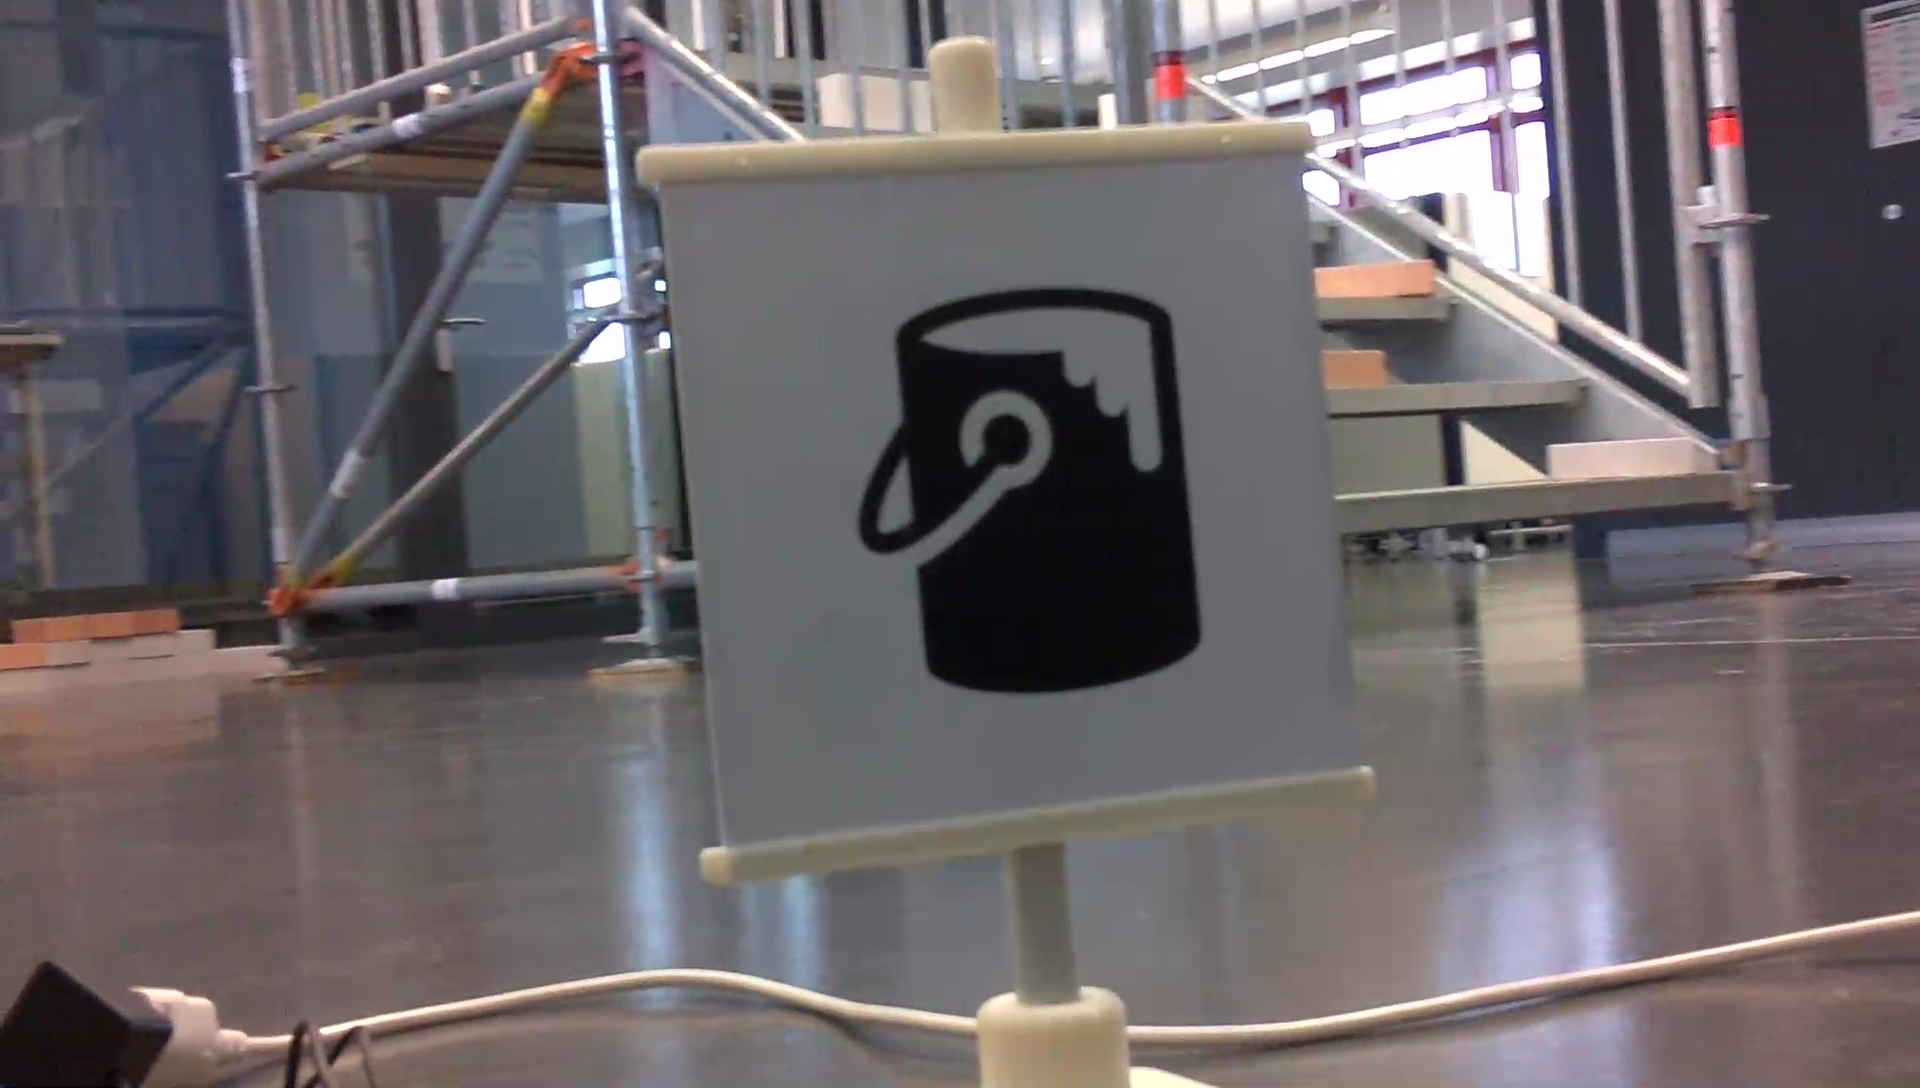brick: (1545, 440, 1687, 477), (1315, 260, 1432, 295), (1327, 348, 1378, 388)
bucket: (851, 278, 1217, 706)
edge: (1337, 475, 1730, 530), (1329, 380, 1592, 410)
